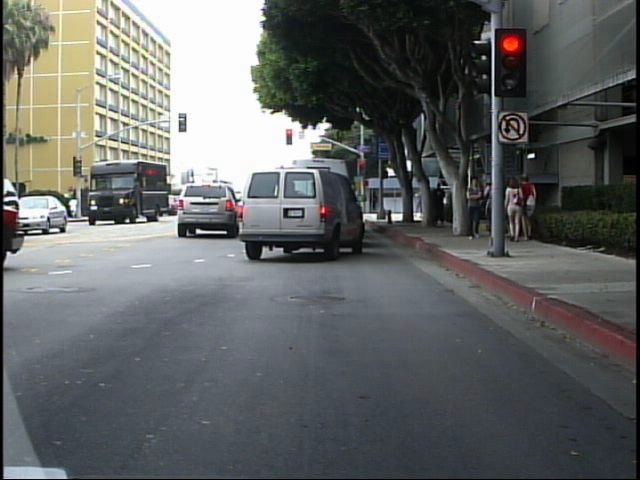person: (504, 170, 528, 245), (520, 171, 544, 245), (468, 175, 488, 242), (432, 175, 447, 230), (64, 190, 80, 222), (412, 185, 424, 217)
